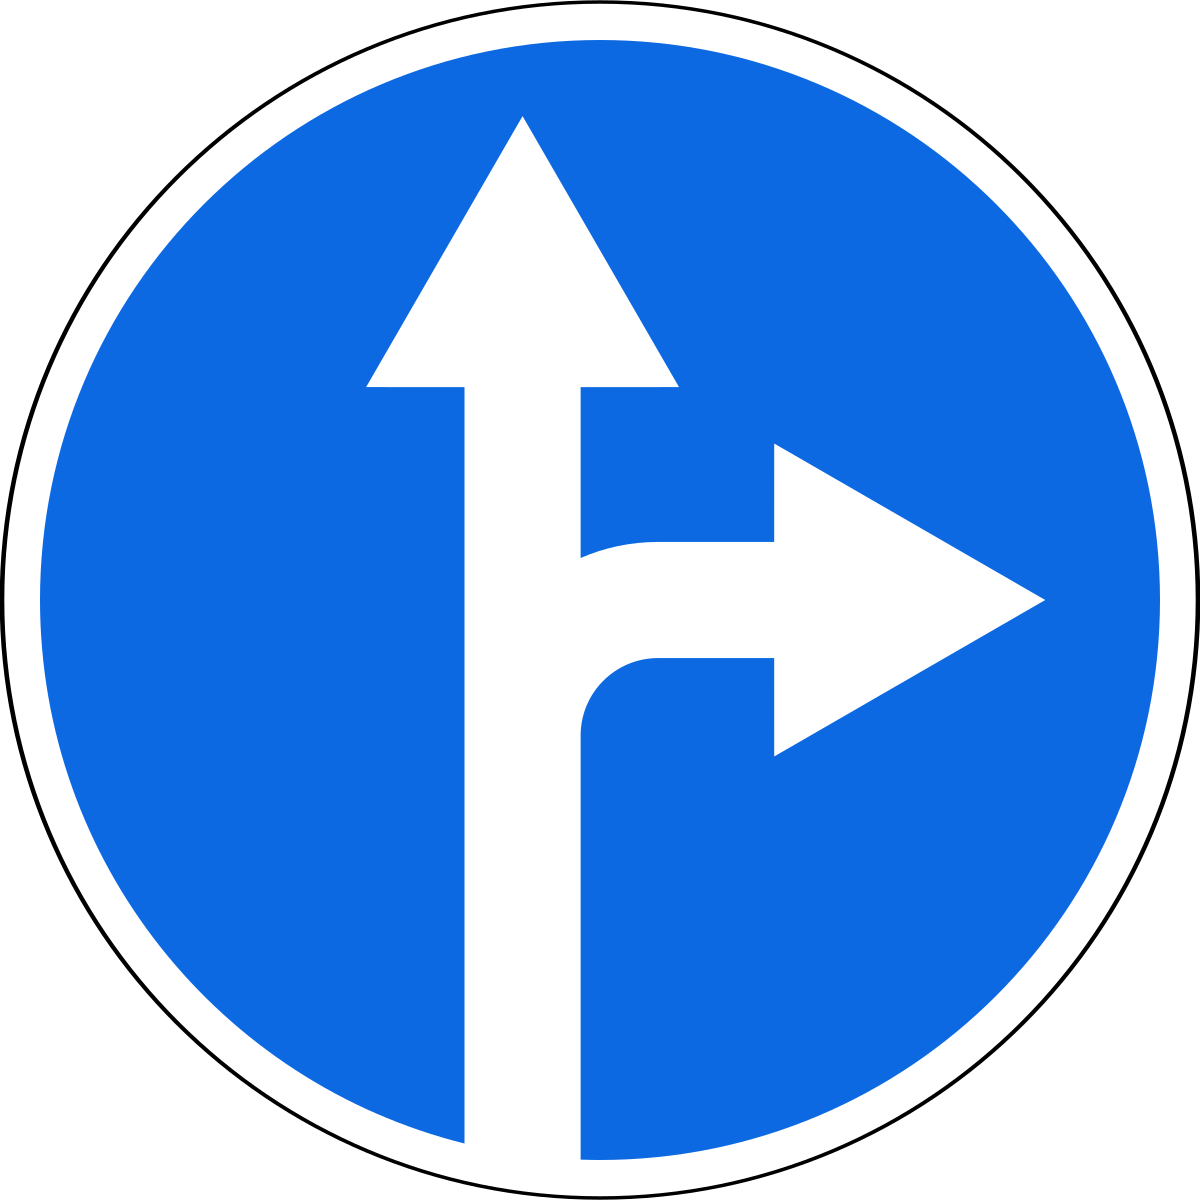ileri_veya_saga: (8, 7, 1182, 1182)
